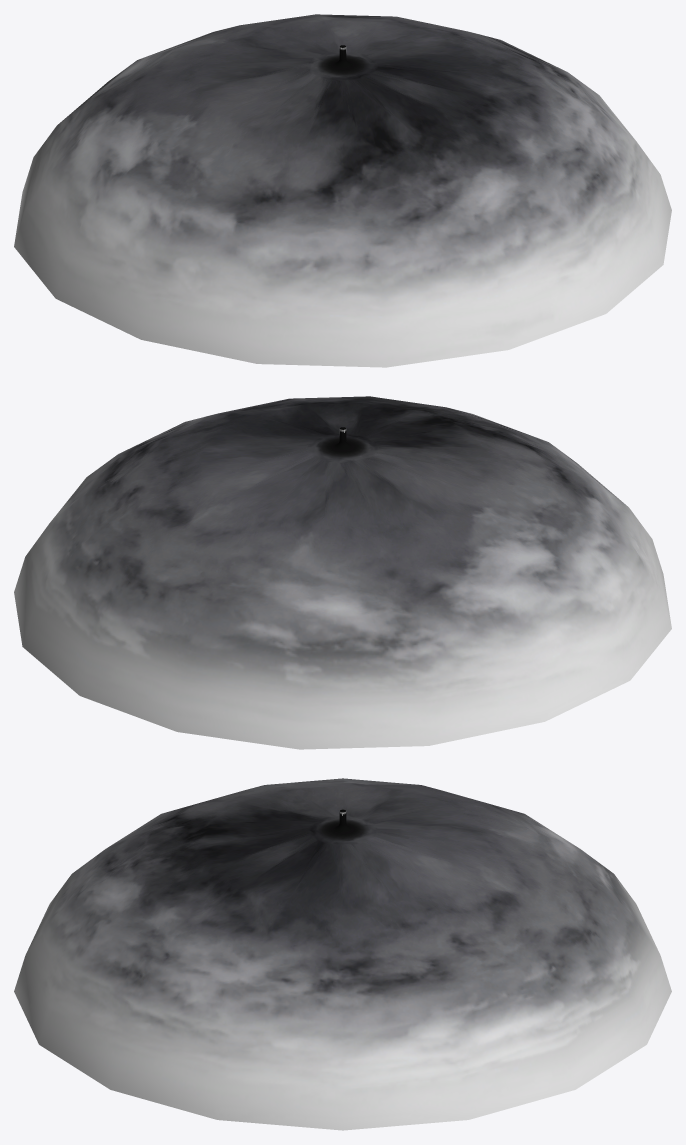
3 renders of one model, top to bottom at view 1: azimuth 30°, elevation 25°; view 2: azimuth 150°, elevation 25°; view 3: azimuth 270°, elevation 25°, orthographic.
Visible parts, largest first — view 1: 02_-_Default; view 2: 02_-_Default; view 3: 02_-_Default.
Part boxes in pixels (x1,y1,x2,y2): 02_-_Default: [14, 14, 671, 367]; 02_-_Default: [14, 396, 671, 749]; 02_-_Default: [14, 778, 671, 1130].
Bounding box in the file's own units: 3762 × 1139 × 3762.
